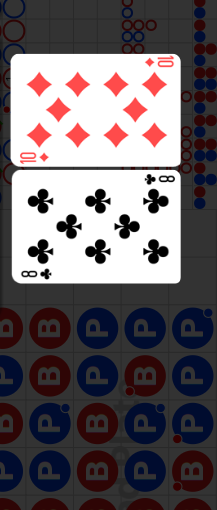10D: (143, 56, 175, 69)
8C: (20, 266, 55, 280)
